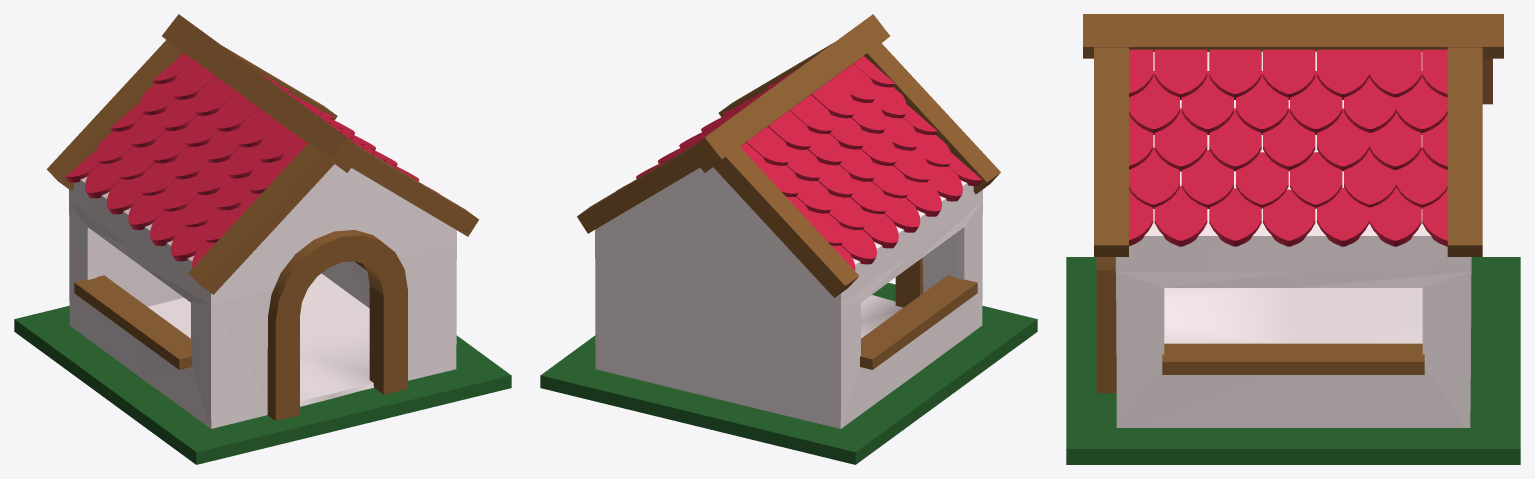
File: HenPlace.fbx
3 renders of one model, left to right at view 1: azimuth 30°, elevation 25°; view 2: azimuth 150°, elevation 25°; view 3: azimuth 270°, elevation 25°, orthographic. The views are drawn at different scales.
Visible parts, largest first — view 1: Box002; view 2: Box002; view 3: Box002.
Part boxes in pixels (<box>): Box002: <box>14,14,511,464</box>; Box002: <box>540,14,1037,464</box>; Box002: <box>1066,14,1520,464</box>.
Bounding box in the file's own units: 130 × 112 × 130.
